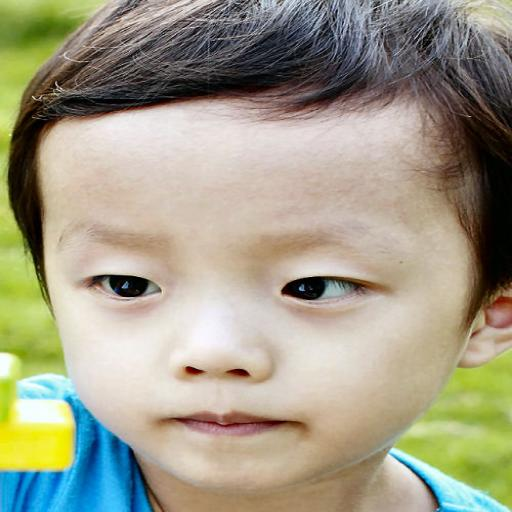Autism: (0, 16, 512, 440)
